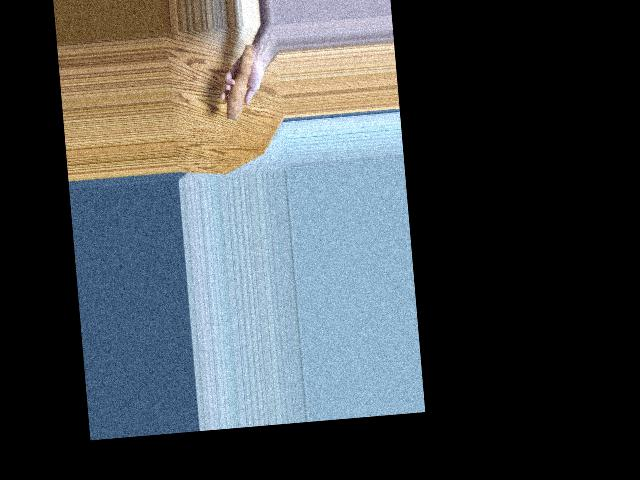sweet_potato: (219, 45, 261, 120)
